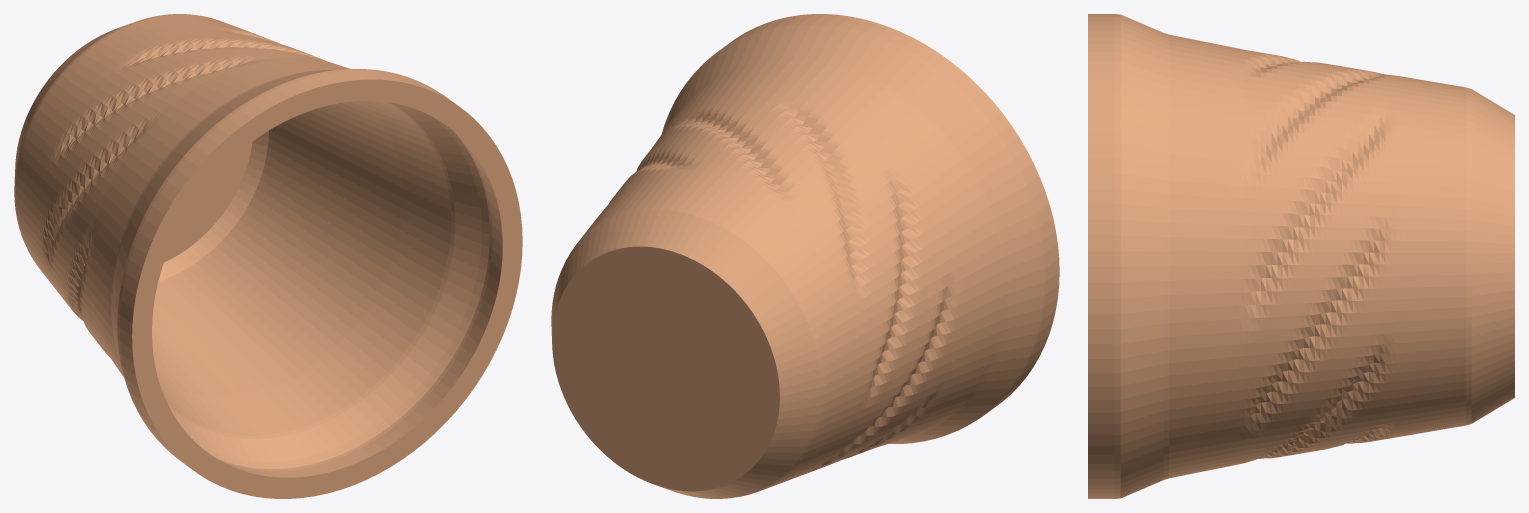
File: Pot_09_Etched_Wave.glb
The picture shows the model from 3 angles, left to right: view 1: azimuth 30°, elevation 25°; view 2: azimuth 150°, elevation 25°; view 3: azimuth 270°, elevation 25°; orthographic projection. The views are drawn at different scales.
Visible parts, largest first — view 1: Pot_09_Etched_Wave; view 2: Pot_09_Etched_Wave; view 3: Pot_09_Etched_Wave.
Boxes of the visible parts, x1=… form: Pot_09_Etched_Wave: x1=14, y1=14, x2=522, y2=498; Pot_09_Etched_Wave: x1=551, y1=14, x2=1059, y2=498; Pot_09_Etched_Wave: x1=1088, y1=14, x2=1514, y2=498.
Bounding box in the file's own units: 0.216 × 0.216 × 0.19.
